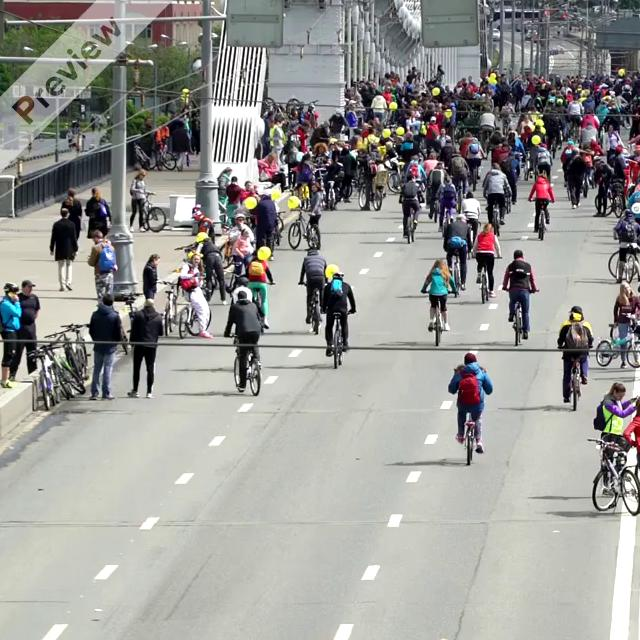bicycle: (586, 436, 639, 515), (595, 316, 639, 368), (229, 331, 263, 396), (421, 290, 455, 346), (507, 289, 539, 346), (326, 310, 352, 369), (287, 207, 320, 250), (608, 241, 639, 284), (459, 410, 483, 465), (298, 282, 323, 334), (136, 192, 166, 232), (565, 357, 583, 411), (446, 248, 465, 297), (401, 201, 421, 243), (533, 200, 549, 240)
